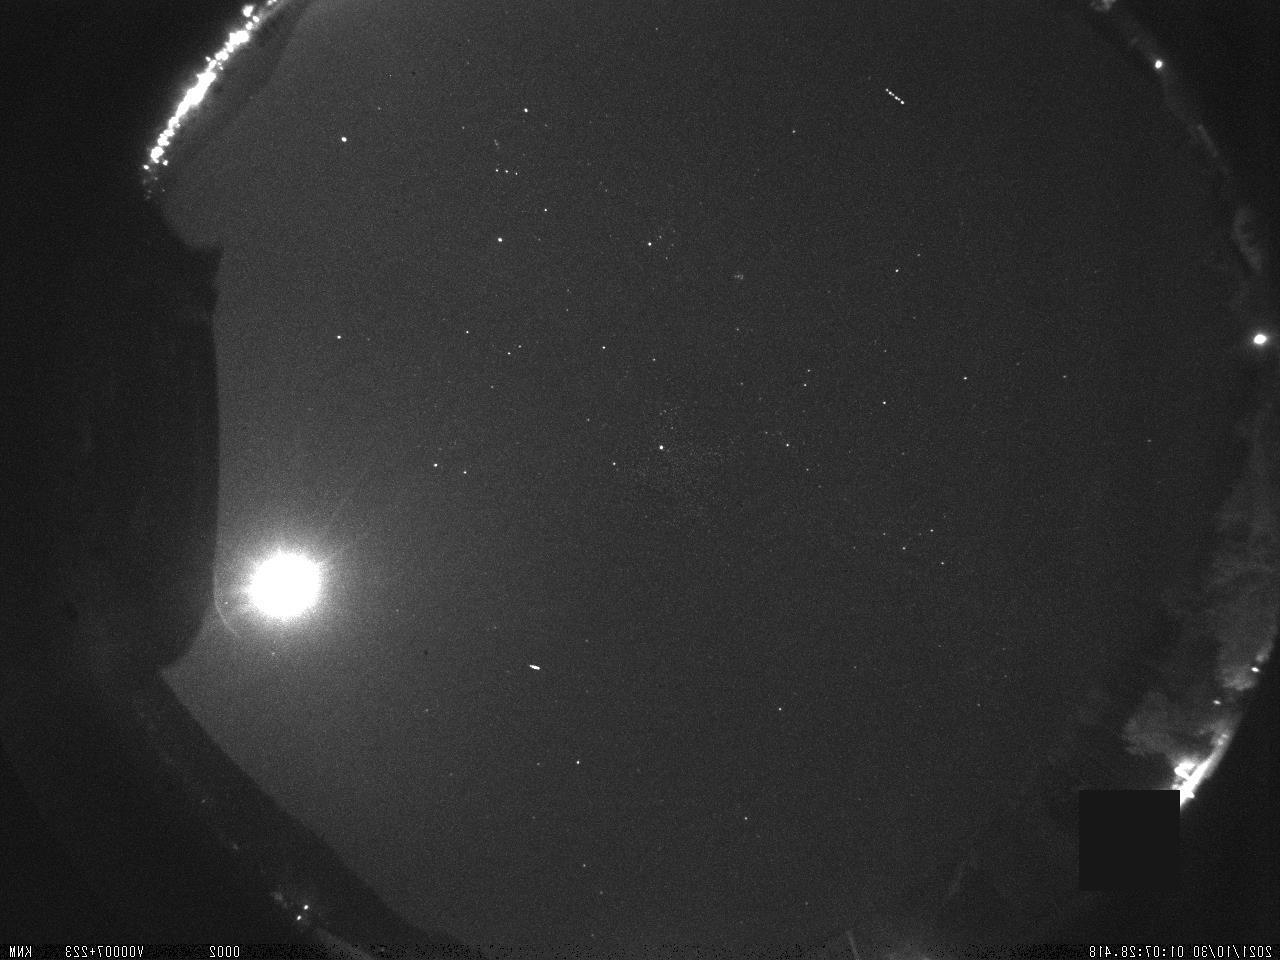meteor: (518, 657, 547, 680)
